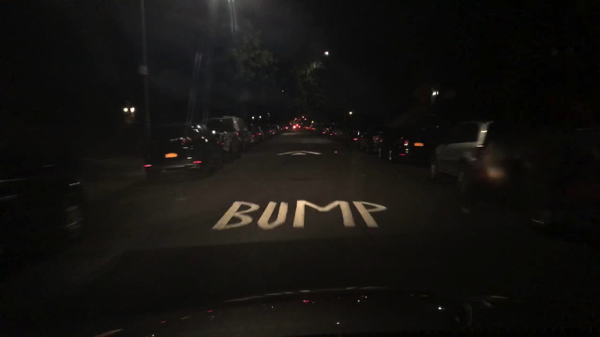car: (457, 125, 598, 222), (1, 136, 89, 276), (142, 123, 222, 182), (427, 119, 495, 184), (377, 124, 447, 165), (202, 118, 244, 162), (358, 124, 393, 156), (228, 117, 256, 148), (342, 126, 364, 147), (246, 122, 263, 146), (327, 123, 346, 140), (253, 122, 266, 141), (260, 124, 274, 136), (321, 125, 331, 136), (271, 125, 279, 134), (292, 124, 301, 130), (282, 125, 290, 131), (308, 125, 316, 131), (278, 125, 284, 132), (304, 125, 309, 131)
traffic sign: (137, 65, 147, 75)
